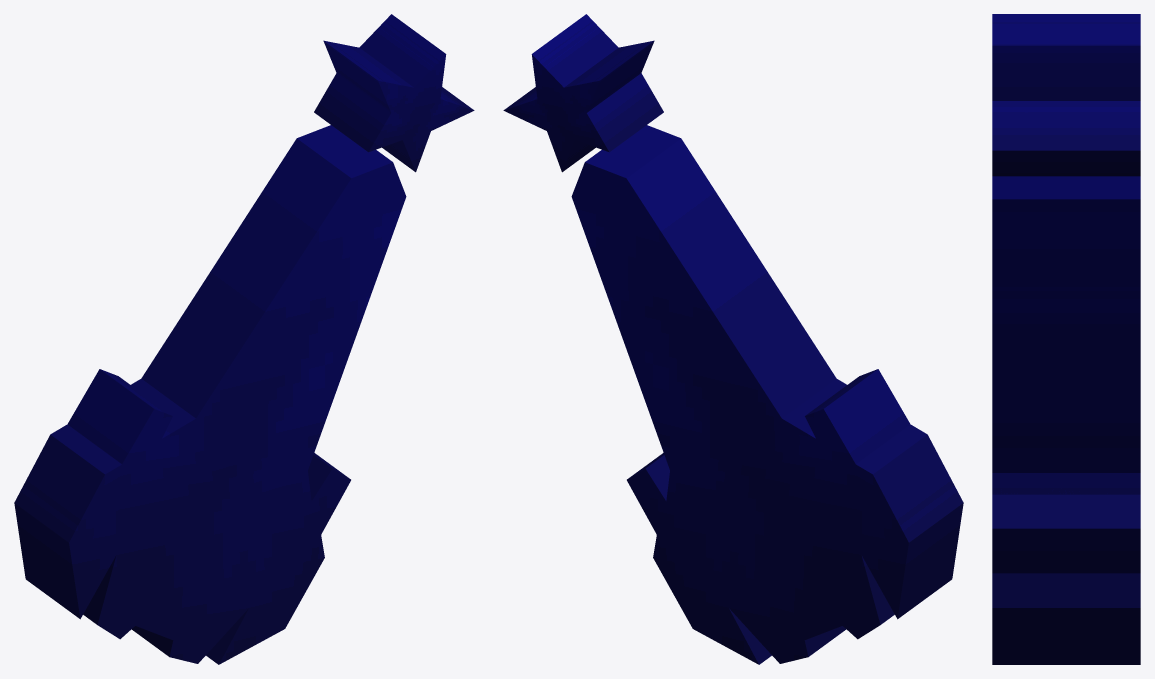
Rendered from single_race.glb.
3 renders of one model, left to right at view 1: azimuth 30°, elevation 25°; view 2: azimuth 150°, elevation 25°; view 3: azimuth 270°, elevation 25°, orthographic. The views are drawn at different scales.
Parts seen in each view (by area): view 1: Mesh_0; view 2: Mesh_0; view 3: Mesh_0.
Part boxes in pixels (x1,y1,x2,y2): Mesh_0: (14,14,474,664); Mesh_0: (503,14,963,664); Mesh_0: (992,14,1140,664).
Bounding box in the file's own units: 2.01 × 2.63 × 0.4695.
1 material, 1 textured.
